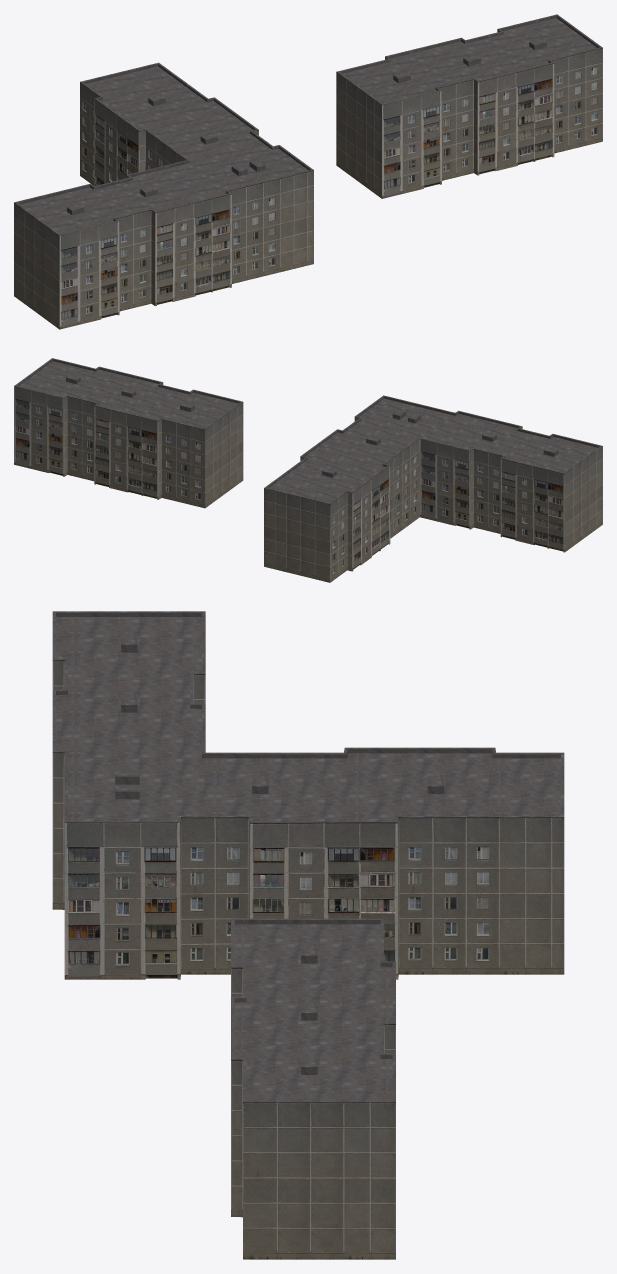
File: panelka1.glb
The picture shows the model from 3 angles, top to bottom: view 1: azimuth 30°, elevation 25°; view 2: azimuth 150°, elevation 25°; view 3: azimuth 270°, elevation 25°; orthographic projection. The views are drawn at different scales.
Visible parts, largest first — view 1: Object_3, Object_4, Object_2; view 2: Object_3, Object_4, Object_2; view 3: Object_4, Object_3, Object_2.
Part boxes in pixels (<box>): Object_3: <box>14,82,313,329</box>; Object_4: <box>14,14,602,235</box>; Object_2: <box>336,29,602,198</box>; Object_3: <box>264,416,602,582</box>; Object_4: <box>14,358,602,503</box>; Object_2: <box>14,382,243,508</box>; Object_4: <box>52,611,564,1102</box>; Object_3: <box>52,660,564,979</box>; Object_2: <box>231,967,395,1259</box>.
Size of the model in its own units: 95.93 by 14.66 by 42.25.
2 materials, 2 textured.
